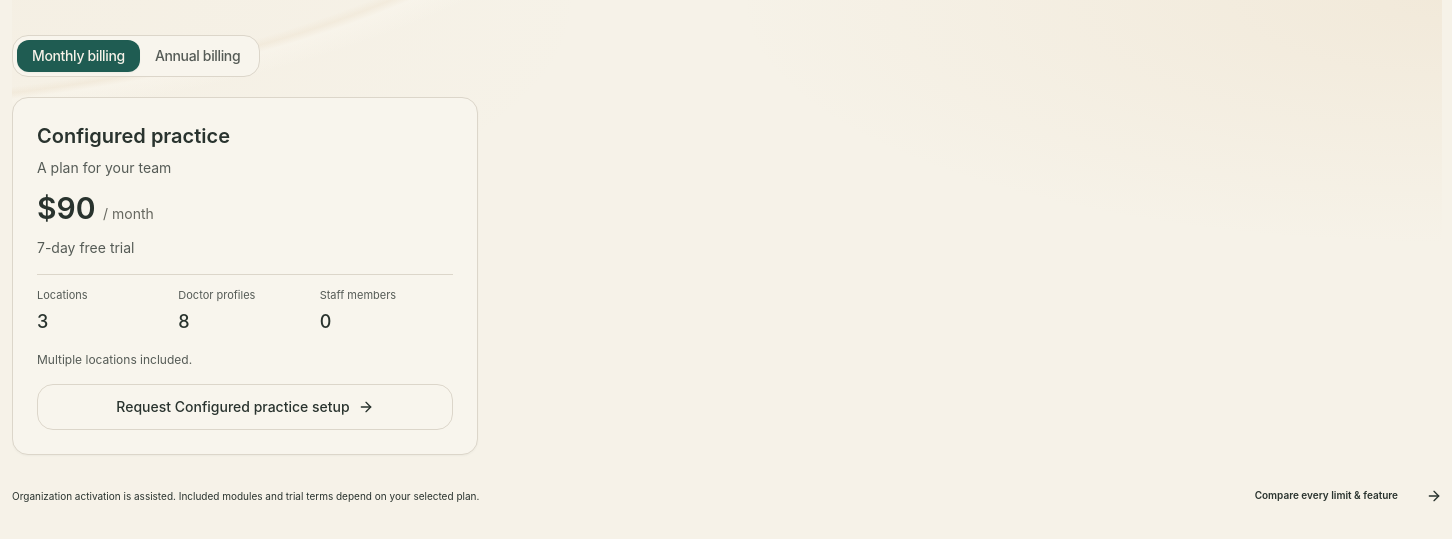
Homepage pricing from the public plan source › waits until the pricing section approaches the viewport and reuses the read when switching cycles
Expected: the heading "Configured practice" is shown, [37,122,230,150]
Expected: the text "$90" is shown, [37,190,96,226]
Click the button "Annual billing" at (198, 56), box [140,40,255,72]
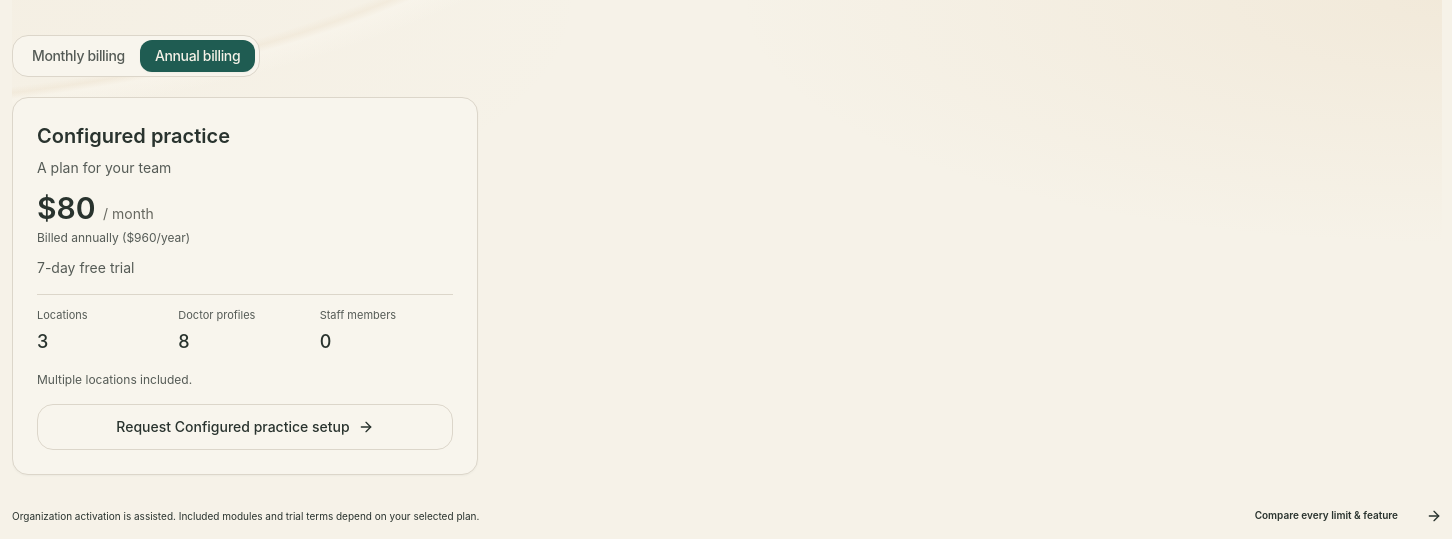
Result: the text "$80" is shown at [37,190,96,226]
Result: the text "Billed annually ($960/year)" is shown at [37,230,190,245]
